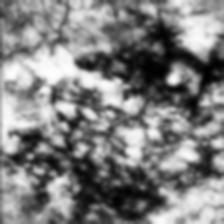Potentially Malignant Skin Tumors: (14, 35, 224, 218)
